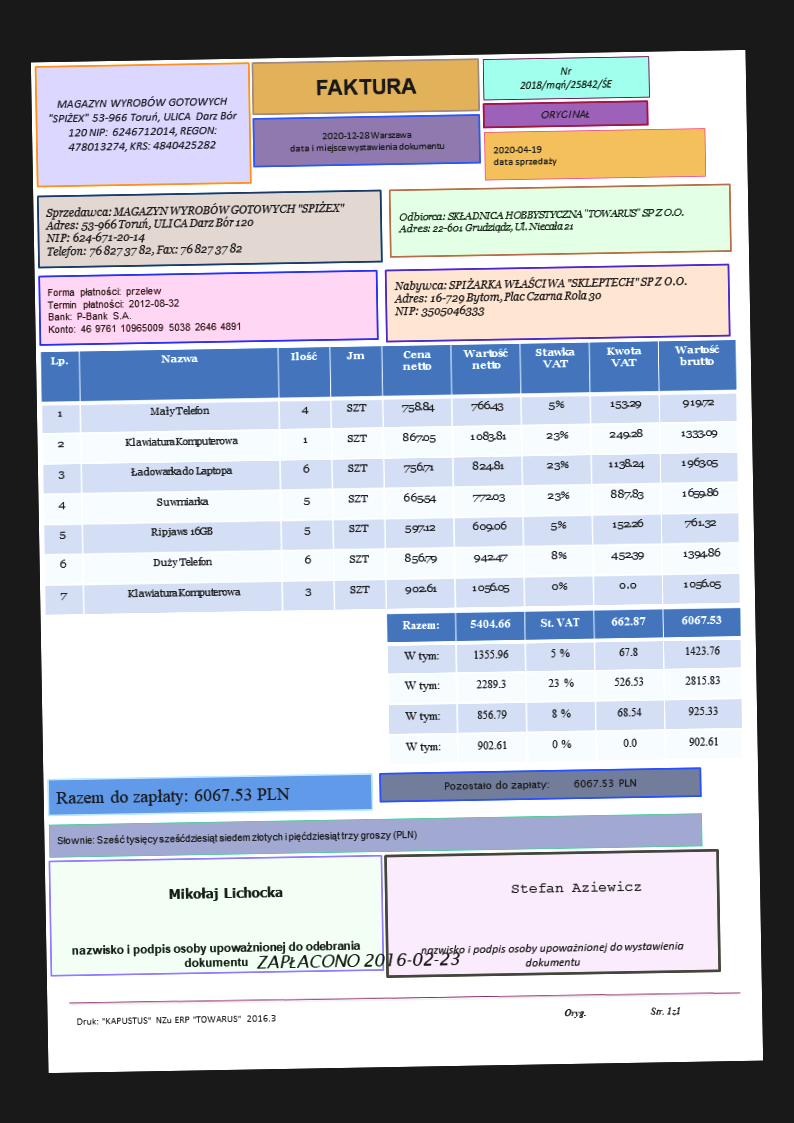Table: (39, 337, 743, 618), (384, 606, 743, 766)
TextBox: (43, 196, 348, 262), (392, 271, 691, 321), (46, 92, 240, 156), (45, 281, 244, 337), (395, 203, 685, 236), (68, 940, 360, 972), (420, 937, 686, 971), (55, 825, 418, 849), (53, 783, 292, 810), (256, 948, 465, 976), (286, 126, 447, 157), (73, 1009, 278, 1029), (441, 776, 639, 794), (517, 64, 613, 94), (166, 880, 286, 904), (509, 878, 644, 898), (313, 75, 419, 99), (490, 141, 559, 173), (561, 1003, 684, 1019), (538, 106, 592, 123)
